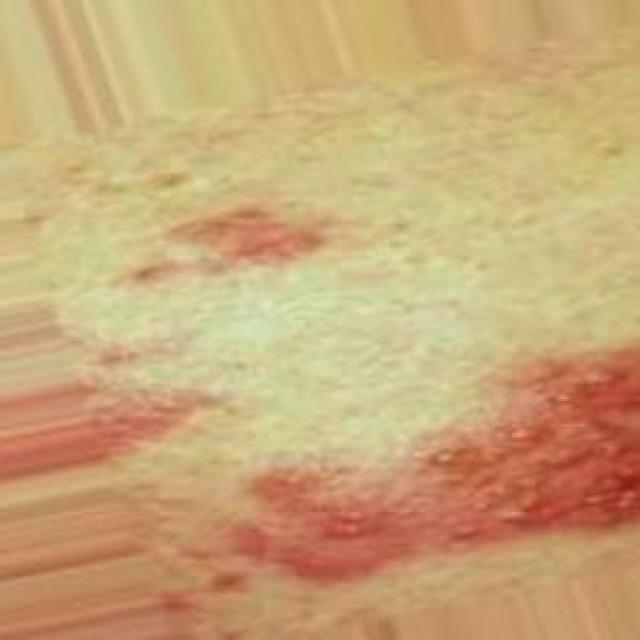Shingles: (236, 343, 640, 582), (146, 198, 328, 271), (100, 391, 206, 443)
